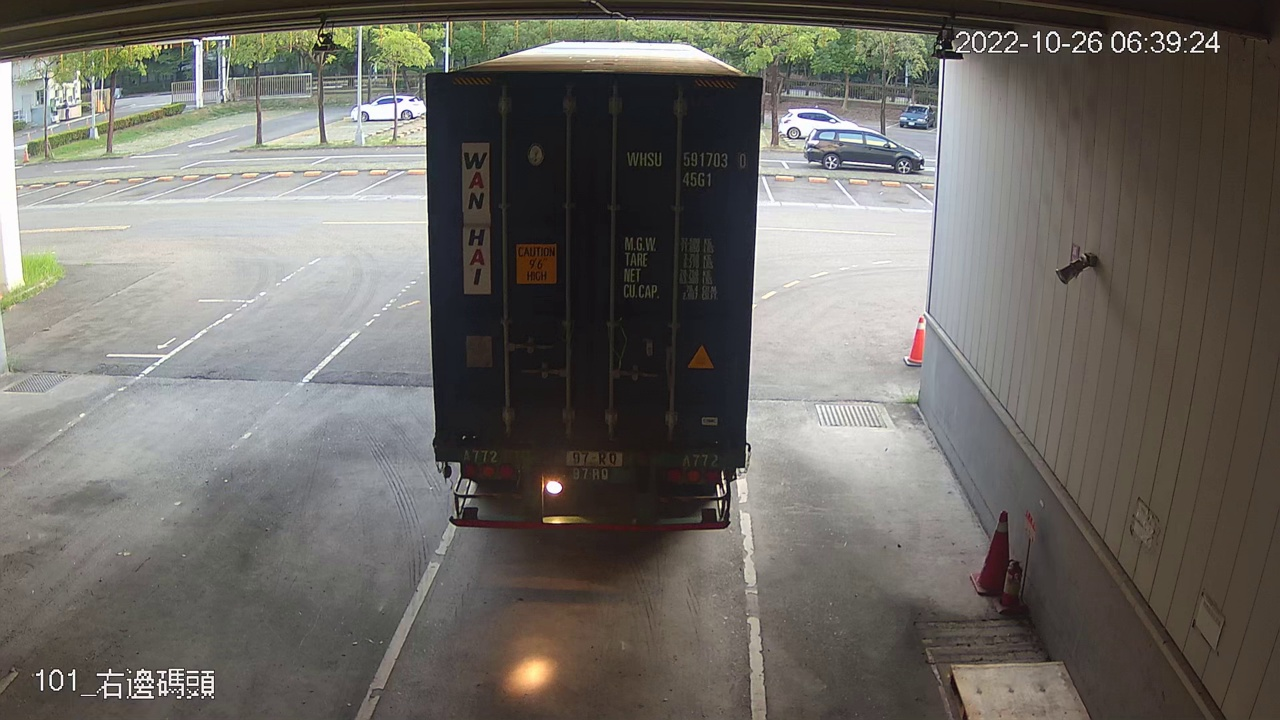container: (618, 143, 750, 193)
